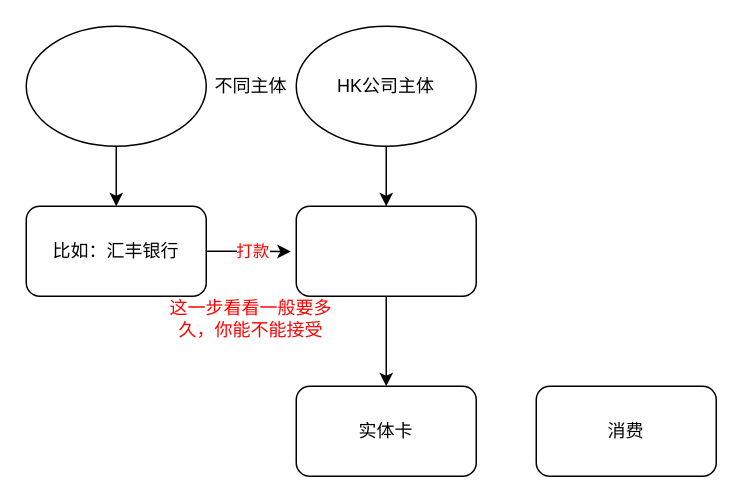
Image size: 743x503. Some labels were removed from this diagram. Here are the shapes that lost their labels. From the top down, the centre of each, then its label:
point 115,85: 其他公司
point 385,250: 空中云汇账户
